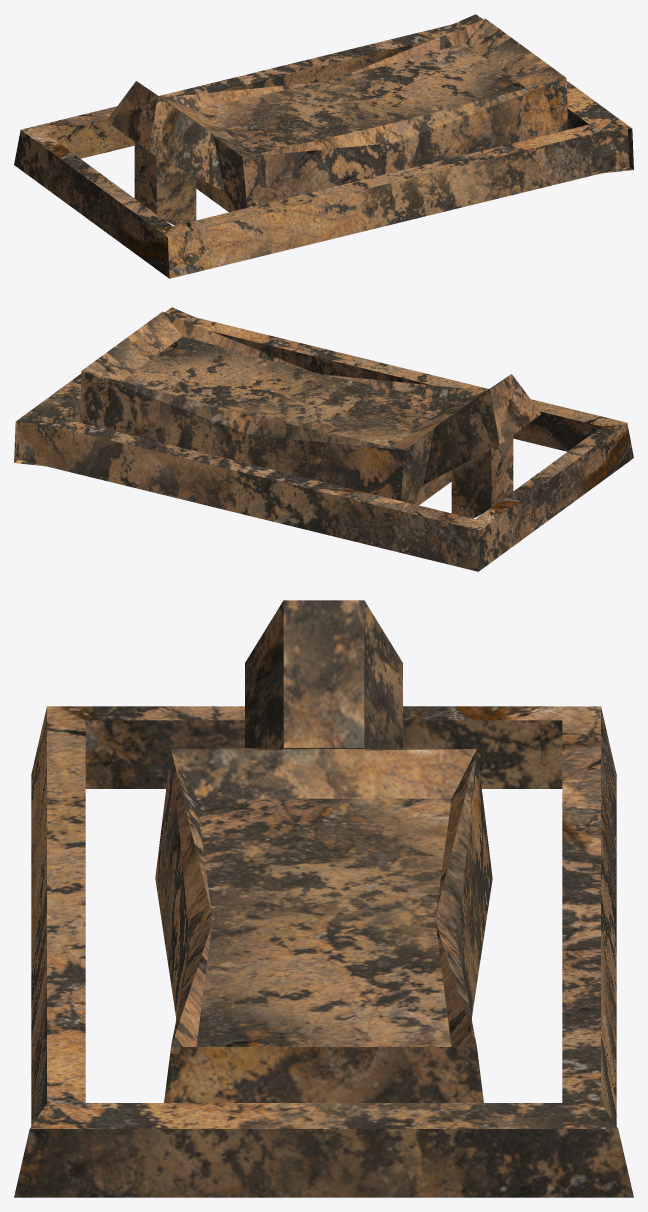
The model's file is grave3.fbx.
3 views of the same model, one above another, from view 1: azimuth 30°, elevation 25°; view 2: azimuth 150°, elevation 25°; view 3: azimuth 270°, elevation 25° (orthographic). The views are drawn at different scales.
Visible parts, largest first — view 1: Cube; view 2: Cube; view 3: Cube.
Boxes of the visible parts, bbox=[...] form: Cube: bbox=[14, 14, 633, 278]; Cube: bbox=[14, 307, 633, 571]; Cube: bbox=[14, 600, 633, 1197].
Size of the model in its own units: 703 by 218 by 434.
